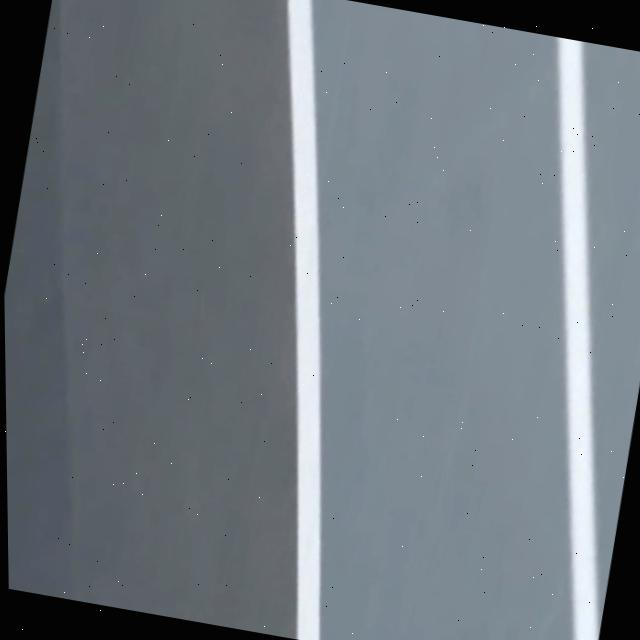left: (287, 0, 321, 640)
